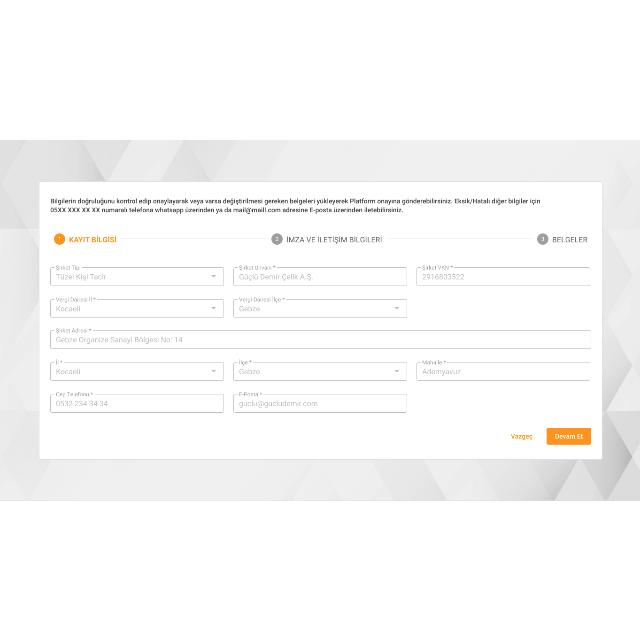QLabel: (48, 196, 540, 214), (286, 234, 382, 242), (67, 234, 116, 242), (552, 234, 588, 242), (552, 431, 586, 439), (509, 431, 535, 439)
VBtn: (546, 426, 592, 444)
VCard: (40, 180, 602, 460)
VCombobox: (49, 295, 224, 317), (233, 296, 407, 318), (50, 358, 224, 380), (233, 358, 407, 380), (50, 265, 224, 285)
VDivider: (384, 237, 534, 239), (120, 237, 268, 239)
VStepper: (44, 228, 600, 454)
VTextField: (50, 326, 592, 348), (234, 391, 408, 414), (232, 264, 408, 286), (415, 264, 591, 286), (416, 358, 592, 380), (49, 390, 224, 412)
